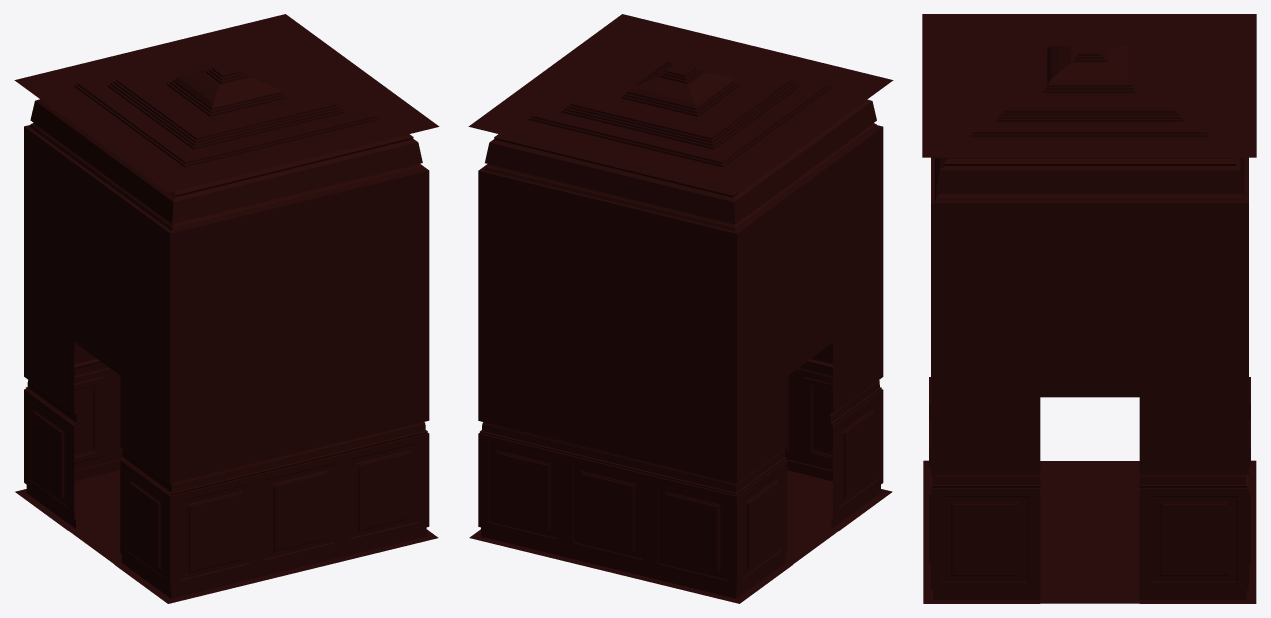
The model's file is 2door_10.FBX.
3 views of the same model, side by side, from view 1: azimuth 30°, elevation 25°; view 2: azimuth 150°, elevation 25°; view 3: azimuth 270°, elevation 25° (orthographic). The views are drawn at different scales.
Parts seen in each view (by area): view 1: wall, ceiling, floor; view 2: wall, ceiling, floor; view 3: wall, ceiling, floor.
Boxes of the visible parts, <box> form: wall: <box>15,14,438,603</box>; ceiling: <box>14,14,439,192</box>; floor: <box>16,470,437,603</box>; wall: <box>469,14,892,603</box>; ceiling: <box>468,14,893,192</box>; floor: <box>470,470,891,603</box>; wall: <box>923,14,1256,603</box>; ceiling: <box>922,14,1256,157</box>; floor: <box>923,461,1255,603</box>.
Bounding box in the file's own units: 122 × 120 × 192.
